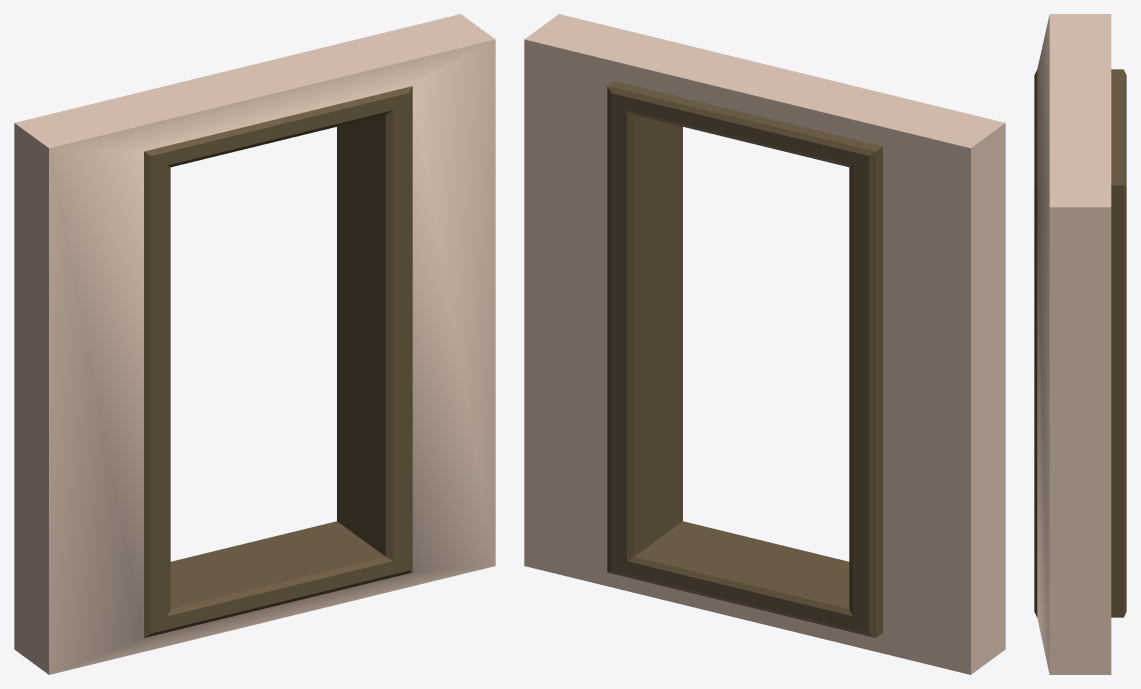
The model's file is greek_wall_2_window_big.fbx.
The picture shows the model from 3 angles, left to right: view 1: azimuth 30°, elevation 25°; view 2: azimuth 150°, elevation 25°; view 3: azimuth 270°, elevation 25°; orthographic projection. The views are drawn at different scales.
Visible parts, largest first — view 1: Cube.077; view 2: Cube.077; view 3: Cube.077.
Part boxes in pixels (x1,y1,x2,y2): Cube.077: (14,14,495,674); Cube.077: (524,14,1005,674); Cube.077: (1034,14,1126,674).
Size of the model in its own units: 297 by 334 by 60.
